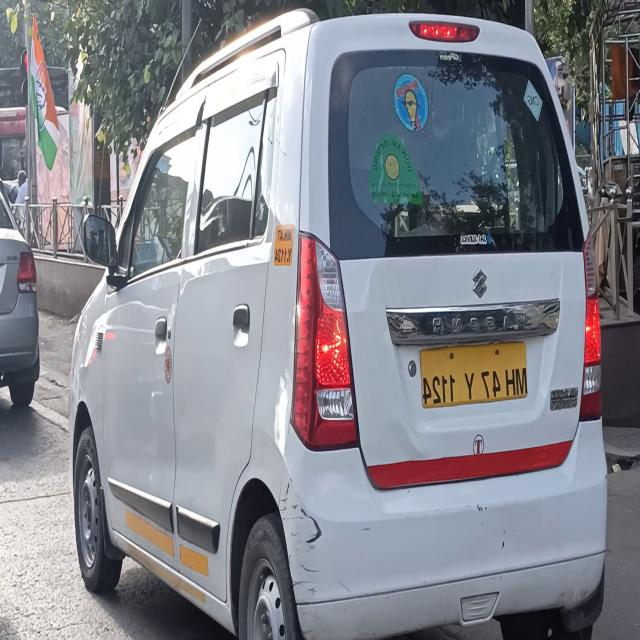license_plate: (416, 336, 530, 419)
